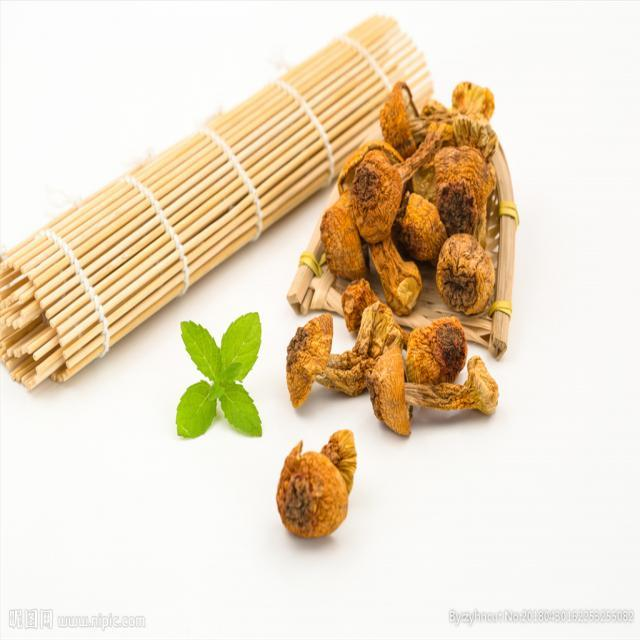Agaricus blazei Murill: (287, 85, 499, 431), (275, 426, 355, 542)
